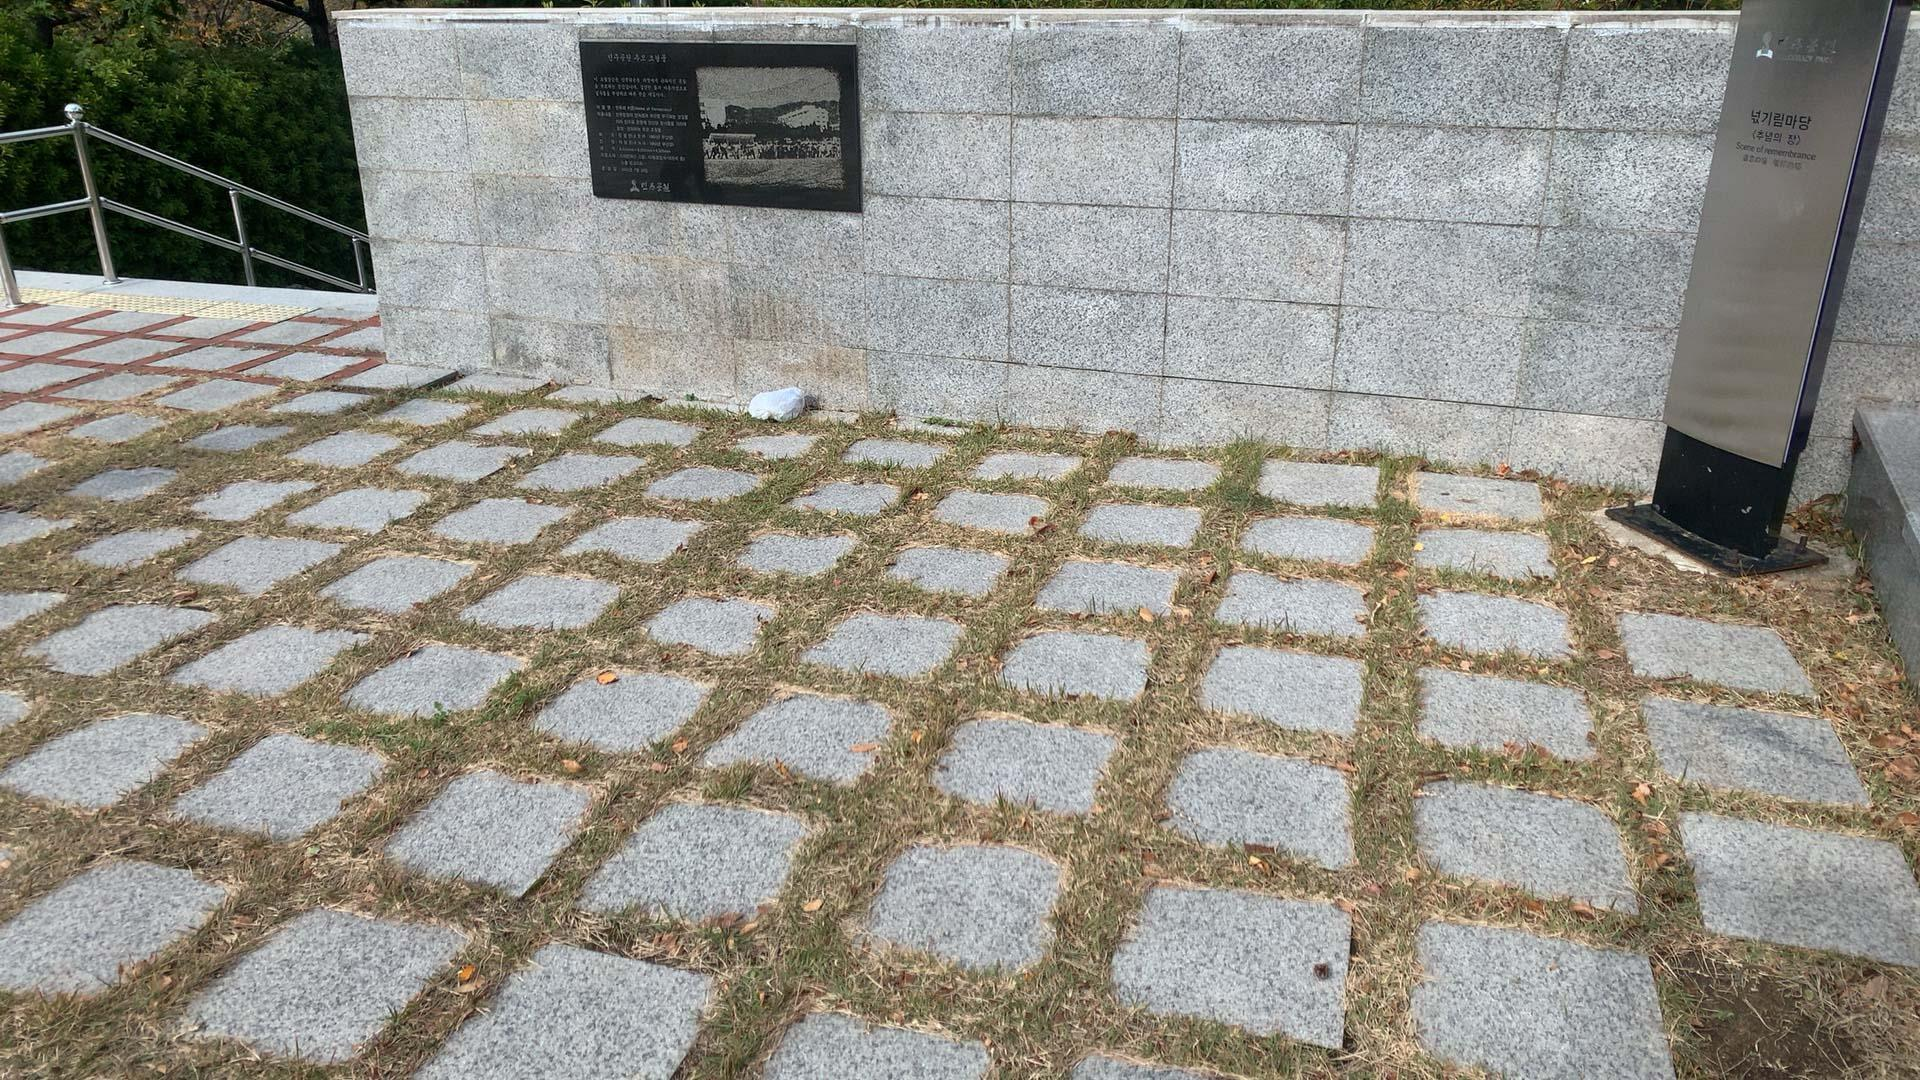white_bag: (741, 382, 811, 426)
